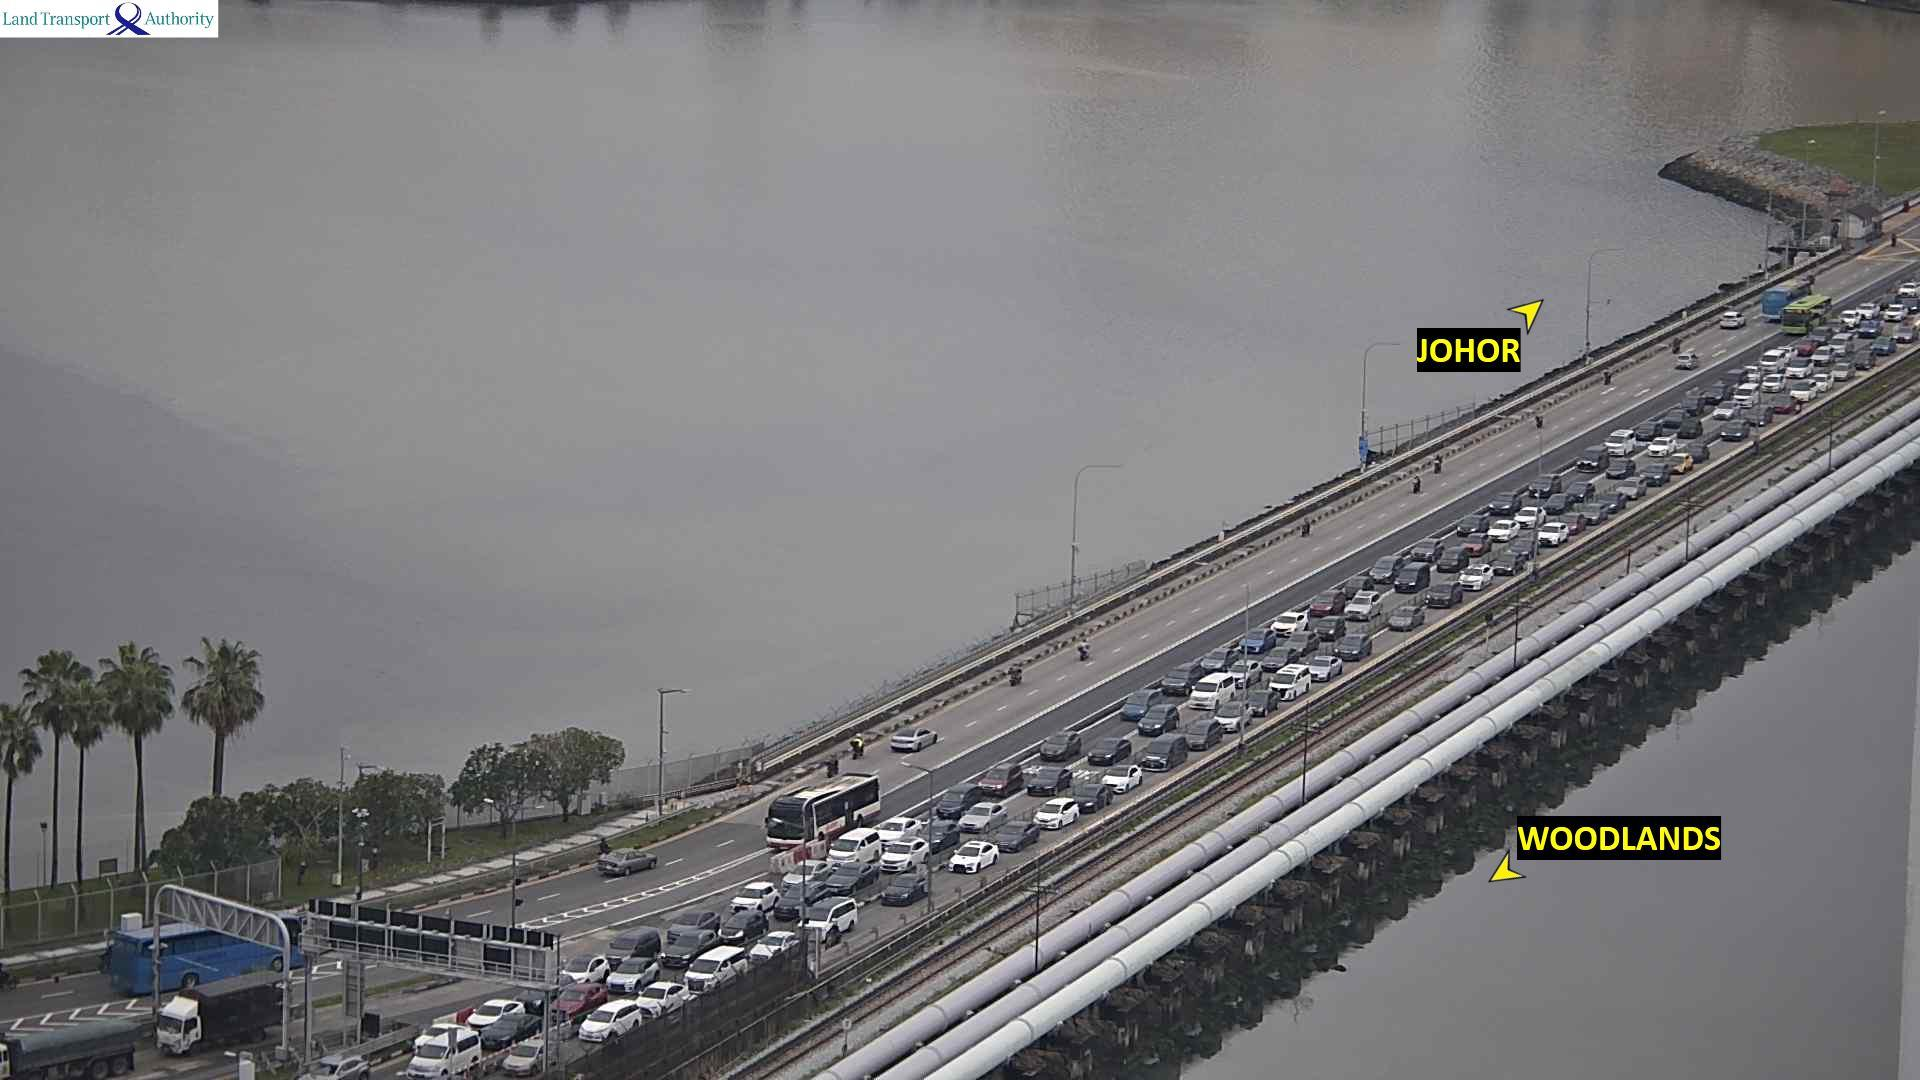vehicle-causeway-johor: (113, 922, 295, 1005), (1759, 278, 1811, 322), (597, 853, 658, 881), (893, 732, 940, 756), (1072, 640, 1093, 662), (1673, 352, 1697, 369), (1722, 310, 1743, 328), (851, 731, 865, 757), (828, 750, 840, 778), (1010, 666, 1025, 686), (1408, 472, 1422, 492), (1432, 455, 1447, 472), (1302, 516, 1313, 534)
vehicle-causeway-singapore: (157, 969, 285, 1054), (0, 1023, 142, 1080), (766, 781, 882, 847), (410, 1033, 480, 1080), (580, 1001, 642, 1042), (686, 948, 744, 992), (798, 899, 858, 939), (605, 927, 661, 964), (551, 985, 607, 1021), (662, 931, 717, 967), (775, 881, 827, 919), (828, 828, 878, 866), (483, 1015, 541, 1048), (297, 1055, 371, 1080), (1782, 298, 1830, 335), (880, 872, 930, 907), (880, 839, 927, 874), (608, 957, 657, 992), (637, 982, 687, 1015), (1139, 735, 1185, 770), (748, 931, 799, 963), (947, 840, 998, 872), (779, 861, 832, 891), (469, 998, 524, 1027), (717, 911, 769, 942), (1189, 674, 1234, 708), (667, 911, 720, 940), (828, 862, 876, 894), (955, 807, 1009, 833), (505, 1038, 545, 1073), (1120, 690, 1166, 720), (1019, 769, 1077, 793), (729, 884, 777, 913), (978, 765, 1022, 796), (1035, 803, 1084, 831), (939, 783, 980, 816), (562, 953, 605, 984), (1345, 589, 1386, 620), (1137, 704, 1178, 733), (1180, 719, 1221, 748), (1299, 655, 1346, 679), (1271, 666, 1308, 696), (996, 823, 1038, 849), (874, 819, 922, 841), (1092, 769, 1138, 791), (1043, 732, 1079, 761), (919, 820, 957, 847), (1166, 663, 1201, 691), (1271, 612, 1308, 637), (1333, 633, 1370, 658), (1393, 564, 1428, 589), (1203, 646, 1236, 671), (1228, 661, 1261, 686), (1263, 646, 1298, 670), (1370, 556, 1404, 580), (1424, 583, 1458, 607), (1706, 421, 1747, 440), (1093, 738, 1129, 761), (1387, 607, 1423, 629), (1245, 690, 1279, 712), (1311, 592, 1345, 615), (1539, 521, 1575, 542), (1458, 563, 1490, 587), (1527, 475, 1560, 497), (1242, 628, 1273, 651), (1286, 632, 1319, 653), (1412, 539, 1441, 563), (1514, 508, 1544, 530), (1577, 450, 1607, 472), (1618, 477, 1648, 500), (1313, 617, 1345, 638), (1784, 380, 1816, 401), (1495, 553, 1523, 576), (1460, 534, 1490, 555), (1456, 517, 1487, 537), (1640, 465, 1668, 488), (1486, 521, 1516, 541), (1646, 439, 1676, 459), (1491, 493, 1519, 514), (1609, 431, 1633, 455), (1578, 505, 1607, 524), (1344, 576, 1369, 597), (1785, 359, 1809, 380), (1544, 495, 1573, 512), (1680, 444, 1709, 462), (1440, 550, 1465, 570), (1721, 421, 1747, 439), (1605, 463, 1634, 479), (1511, 539, 1538, 556), (1677, 421, 1704, 438), (1567, 484, 1594, 500), (1734, 384, 1758, 402), (1598, 493, 1627, 508), (1708, 405, 1734, 421), (1830, 363, 1854, 380), (1870, 336, 1891, 355), (1669, 455, 1692, 472), (1762, 351, 1779, 373), (1883, 305, 1905, 322), (1638, 426, 1662, 442), (1833, 332, 1851, 351), (1894, 327, 1915, 343), (1762, 377, 1783, 392), (1857, 302, 1878, 316), (1895, 282, 1912, 299), (1812, 348, 1830, 364), (1841, 311, 1861, 326), (1813, 376, 1830, 389)
